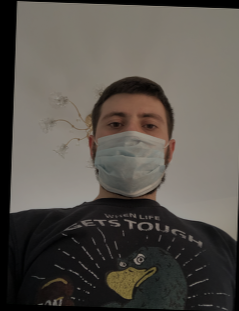with_mask: (93, 105, 168, 196)
